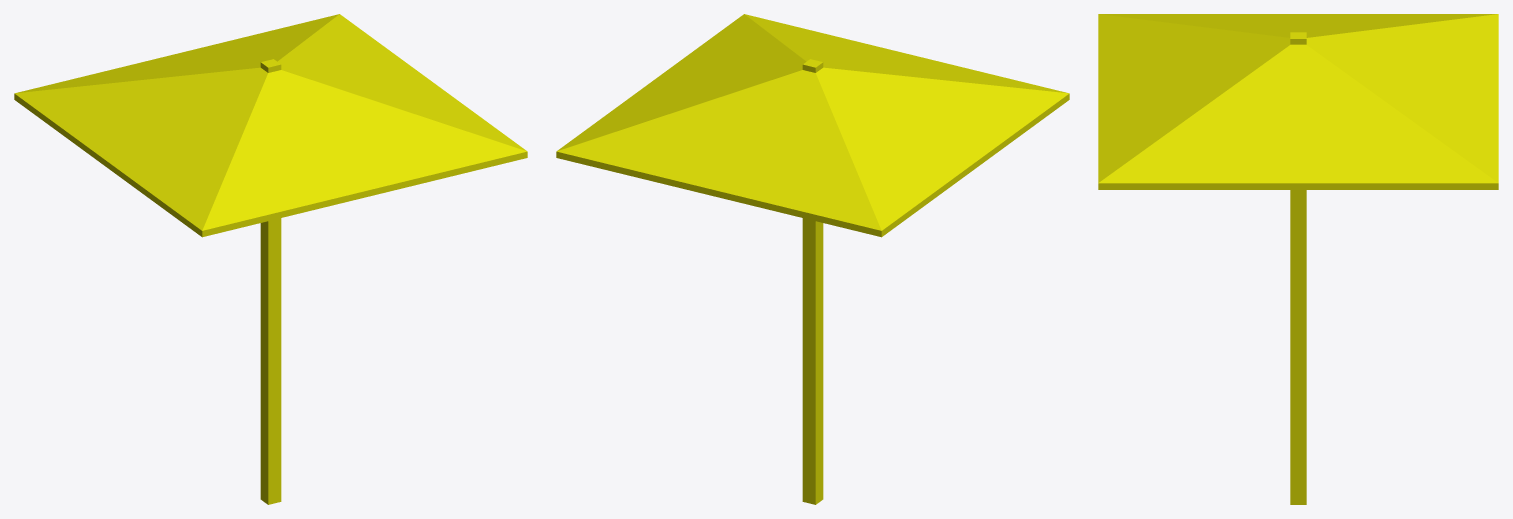
The model's file is Beach_Umbrella_3.gltf.
3 renders of one model, left to right at view 1: azimuth 30°, elevation 25°; view 2: azimuth 150°, elevation 25°; view 3: azimuth 270°, elevation 25°, orthographic. The views are drawn at different scales.
Visible parts, largest first — view 1: Beach_Umbrella2.001; view 2: Beach_Umbrella2.001; view 3: Beach_Umbrella2.001.
Part boxes in pixels (x1=…): Beach_Umbrella2.001: x1=14, y1=14, x2=527, y2=504; Beach_Umbrella2.001: x1=556, y1=14, x2=1069, y2=504; Beach_Umbrella2.001: x1=1098, y1=14, x2=1498, y2=504.
Size of the model in its own units: 3.04 by 3.91 by 3.04.
1 material, 1 textured.
